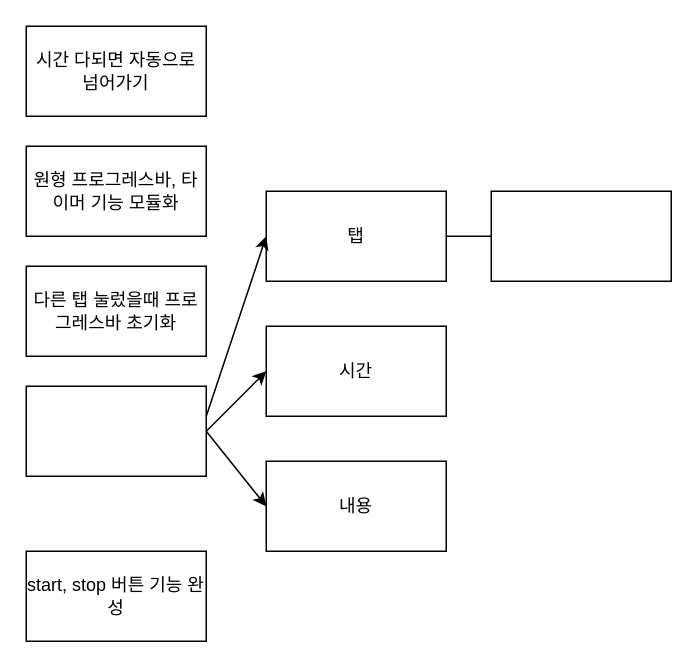
This 698x668 diagram has some shape labels left out. Here are the shapes that lost their labels. From the top down, the centre of each, then its label:
the point at 580,235: 탭의 개수 조절 (삭제 버튼을 만들 것인가 or 사이드 메뉴?를 만들 것인가)
the point at 115,430: 클릭하면 입력모드로 바꾸기
